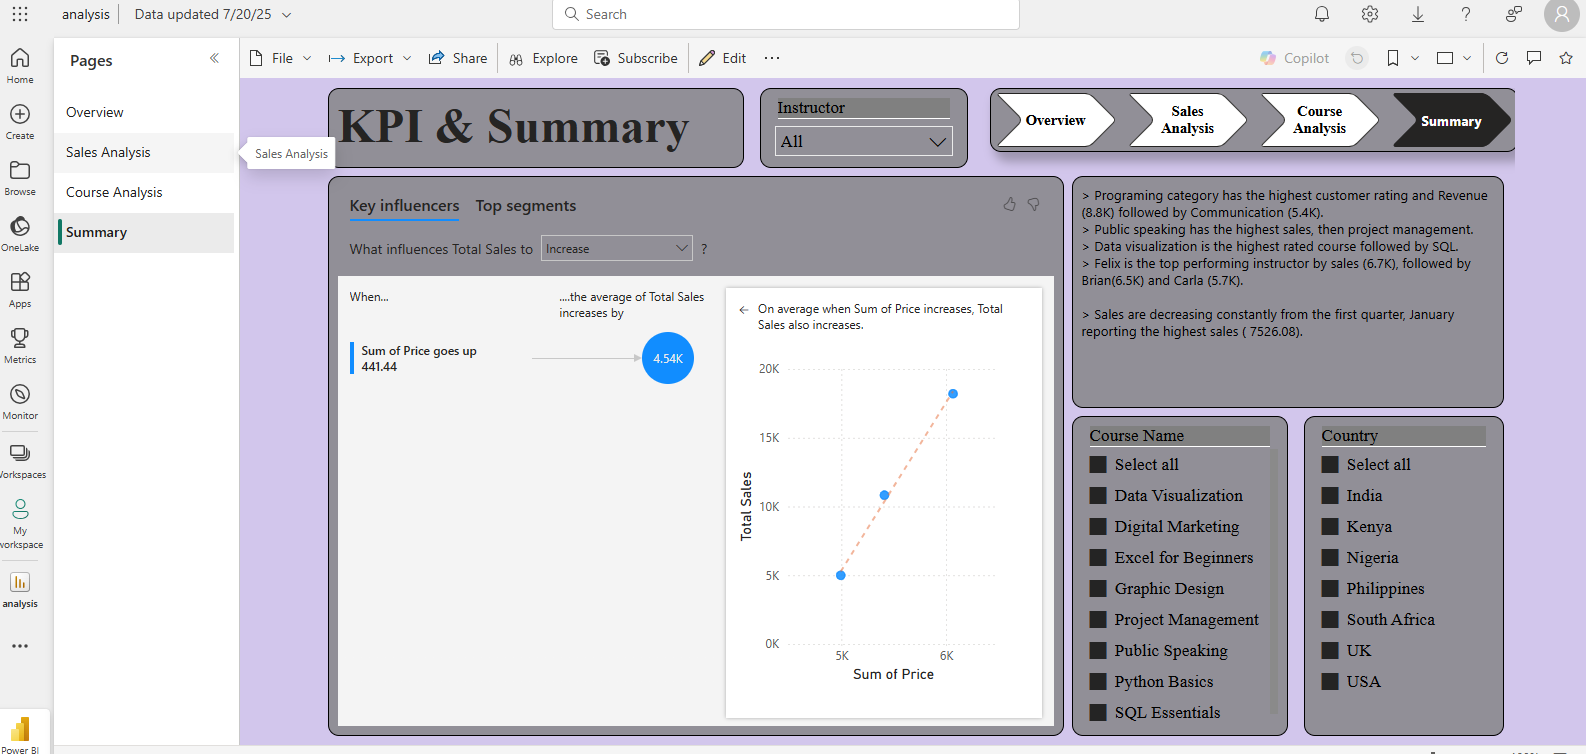

What the dashboard file says about the page in this screenshot:
{"tool":"powerbi","page":{"name":"Summary","canvas":[1203,650],"ordinal":3},"visuals":[{"type":"keyDriversVisual","fields":{"ExplainBy":["Project 2;Online_Course_Sales.Quantity","Sum(Project 2;Online_Course_Sales.Price)"],"Target":["Measures Table.Total Sales"]},"box":[16,88,736,560],"z":0},{"type":"slicer","fields":{"Values":["Project 2;Online_Course_Sales.Course Name"]},"box":[760,328,216,320],"z":1000},{"type":"slicer","fields":{"Values":["Project 2;Online_Course_Sales.Country"]},"box":[992,328,200,320],"z":2000},{"type":"textbox","box":[760,88,432,232],"z":3000},{"type":"pageNavigator","box":[678,0,528,64],"z":4000},{"type":"textbox","box":[16,0,416,80],"z":5000},{"type":"slicer","fields":{"Values":["Project 2;Online_Course_Sales.Instructor"]},"box":[448,0,208,80],"z":6000}]}

Visuals, with their boxes on the page's 1203x650 design canvas (x1, y1, x2, y2). These are canvas units, not pixel positions in the 1586x754 screenshot, which may show the page scaled, cropped or inside an application window:
keyDriversVisual - Project 2;Online_Course_Sales.Quantity x Sum(Project 2;Online_Course_Sales.Price): rect(16, 88, 752, 648)
slicer - Project 2;Online_Course_Sales.Course Name: rect(760, 328, 976, 648)
slicer - Project 2;Online_Course_Sales.Country: rect(992, 328, 1192, 648)
textbox: rect(760, 88, 1192, 320)
pageNavigator: rect(678, 0, 1206, 64)
textbox: rect(16, 0, 432, 80)
slicer - Project 2;Online_Course_Sales.Instructor: rect(448, 0, 656, 80)
